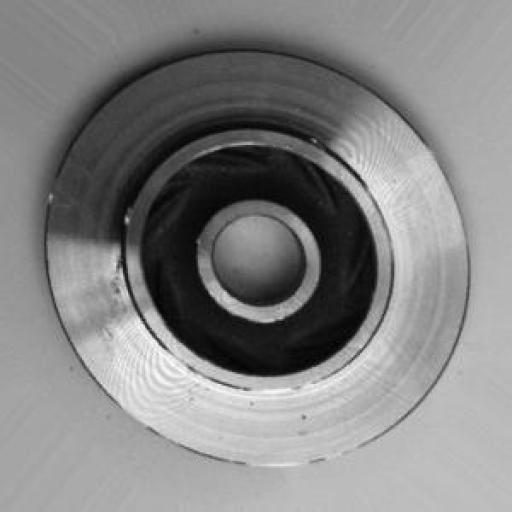defect: (94, 217, 130, 365)
